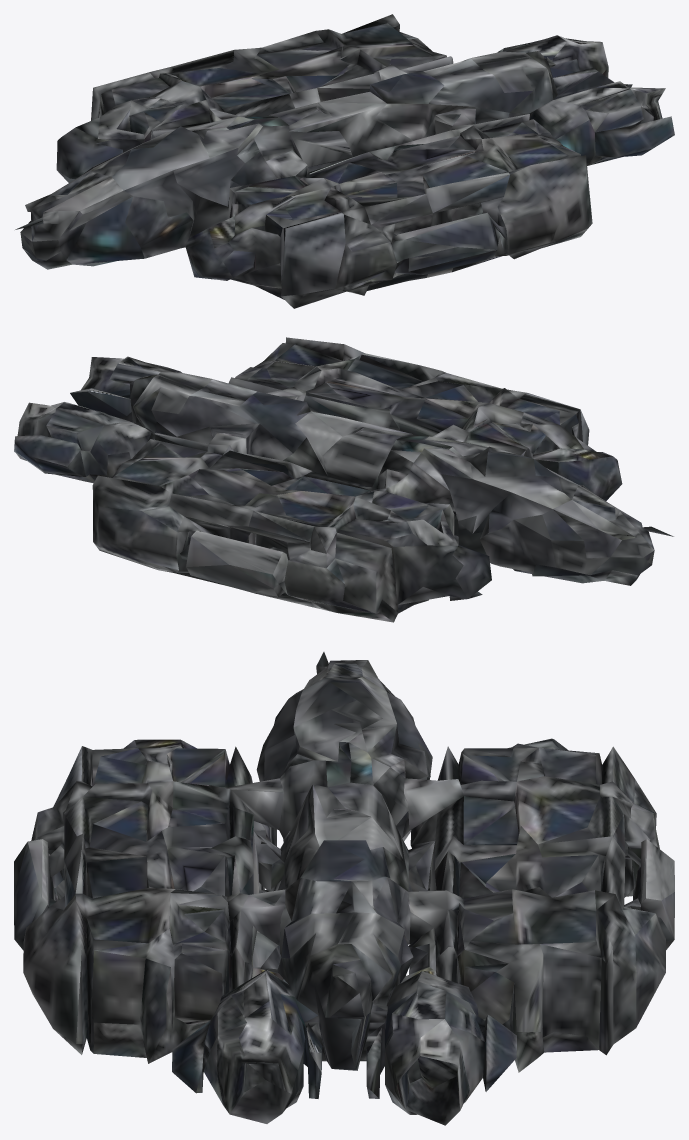
The model's file is argosy_lod.glb.
3 renders of one model, top to bottom at view 1: azimuth 30°, elevation 25°; view 2: azimuth 150°, elevation 25°; view 3: azimuth 270°, elevation 25°, orthographic. The views are drawn at different scales.
Size of the model in its own units: 1.9 by 0.3589 by 1.26.
1 material, 1 textured.
